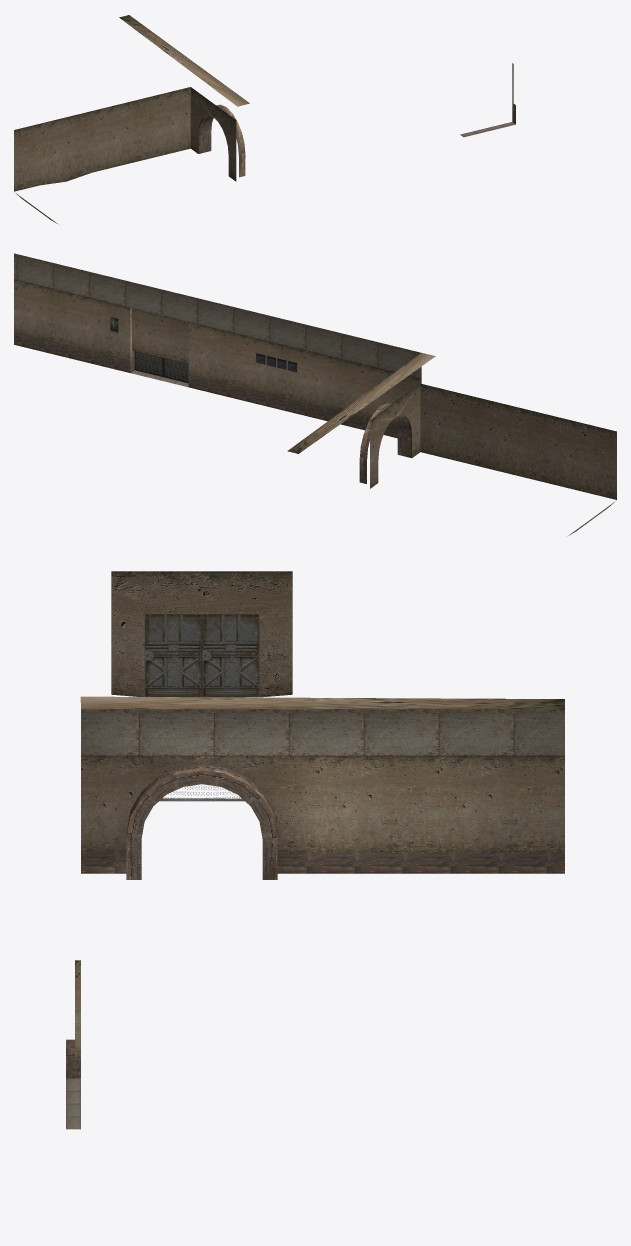
File: M11Z1_TownWall01.glb
The picture shows the model from 3 angles, top to bottom: view 1: azimuth 30°, elevation 25°; view 2: azimuth 150°, elevation 25°; view 3: azimuth 270°, elevation 25°; orthographic projection. The views are drawn at different scales.
Parts seen in each view (by area): view 1: M11Z1_TOWNWALL01; view 2: M11Z1_TOWNWALL01; view 3: M11Z1_TOWNWALL01.
Part boxes in pixels (box(x1,y1,x2,y2)): M11Z1_TOWNWALL01: box(14, 15, 515, 223); M11Z1_TOWNWALL01: box(14, 253, 616, 535); M11Z1_TOWNWALL01: box(66, 571, 564, 1129).
Size of the model in its own units: 84 by 12.4 by 33.
9 materials, 9 textured.
